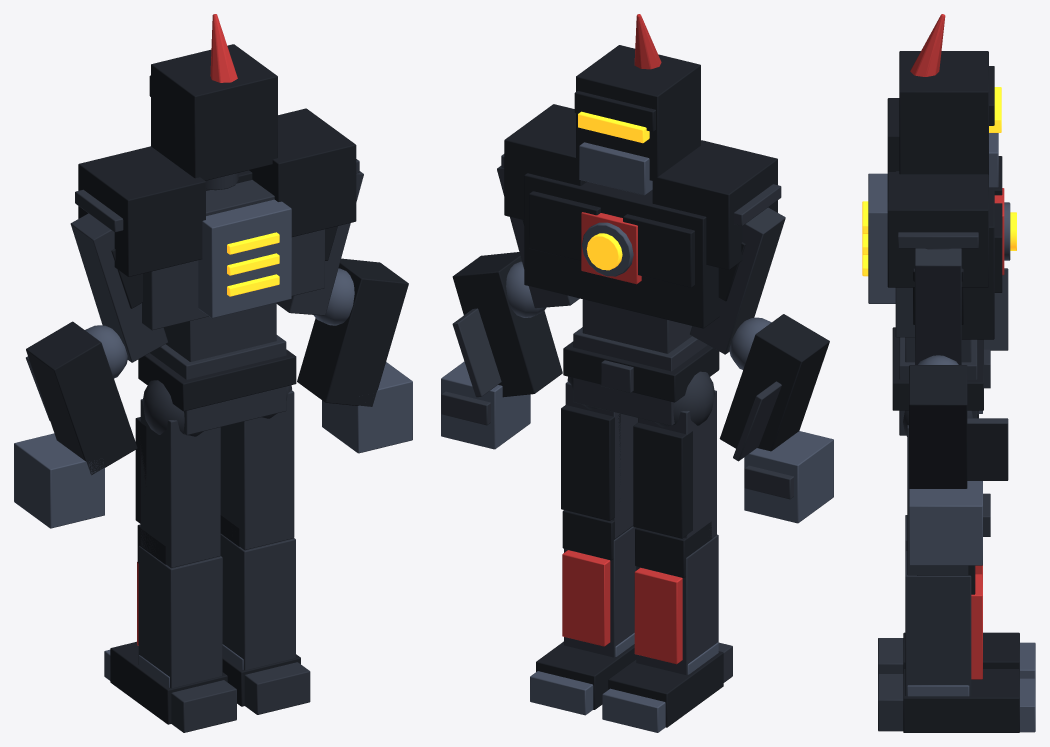
File: char_ashfang.glb
3 views of the same model, side by side, from view 1: azimuth 30°, elevation 25°; view 2: azimuth 150°, elevation 25°; view 3: azimuth 270°, elevation 25° (orthographic). The views are drawn at different scales.
Visible parts, largest first — view 1: char_ashfang; view 2: char_ashfang; view 3: char_ashfang.
Part boxes in pixels (x1,y1,x2,y2): char_ashfang: (14,14,412,732); char_ashfang: (441,14,833,732); char_ashfang: (862,14,1035,732).
Bounding box in the file's own units: 1.09 × 1.95 × 0.445.
